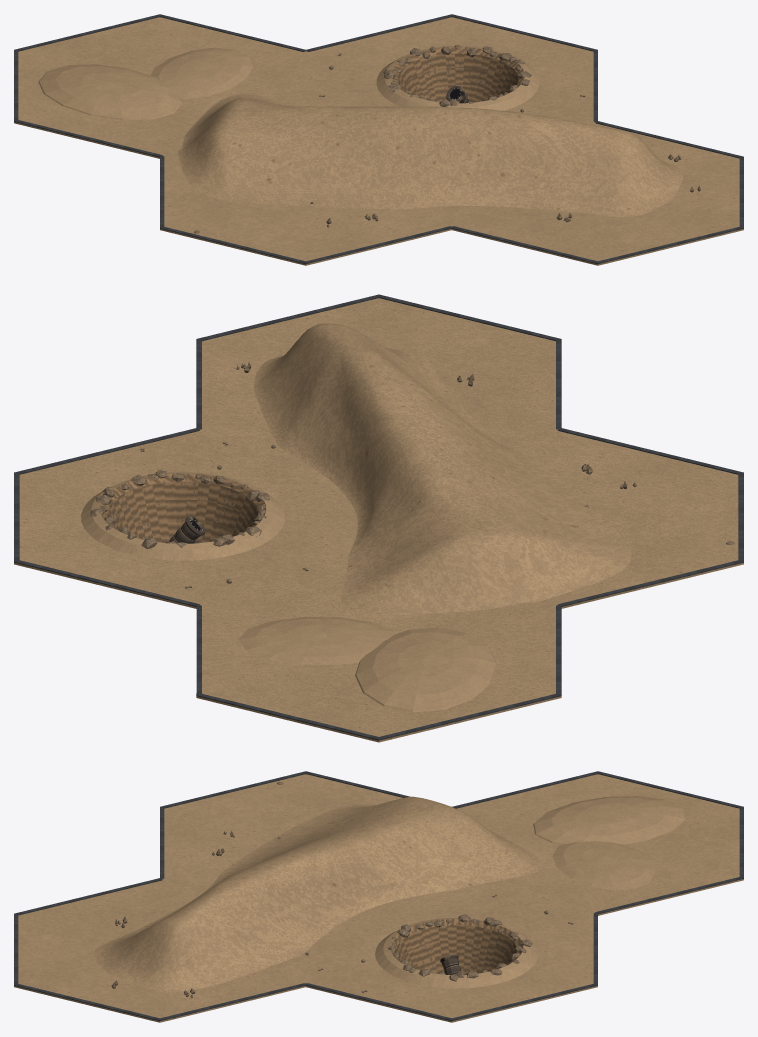
Rendered from WasteHex_Pistol.glb.
3 renders of one model, top to bottom at view 1: azimuth 30°, elevation 25°; view 2: azimuth 150°, elevation 25°; view 3: azimuth 270°, elevation 25°, orthographic. The views are drawn at different scales.
Visible parts, largest first — view 1: WasteHex_Pistol_Ground, WasteHex_Pistol_Prop_WasteO, WasteHex_Pistol_Prop_Drift, WasteHex_Pistol_GroundTrim, WasteHex_Pistol_Prop_PitWall, WasteHex_Pistol_Prop_PitRim, WasteHex_Pistol_Prop_Rock; view 2: WasteHex_Pistol_Ground, WasteHex_Pistol_Prop_WasteO, WasteHex_Pistol_Prop_Drift, WasteHex_Pistol_GroundTrim, WasteHex_Pistol_Prop_PitWall, WasteHex_Pistol_Prop_PitRim, WasteHex_Pistol_Prop_Rock; view 3: WasteHex_Pistol_Ground, WasteHex_Pistol_Prop_WasteO, WasteHex_Pistol_Prop_Drift, WasteHex_Pistol_GroundTrim, WasteHex_Pistol_Prop_PitWall, WasteHex_Pistol_Prop_PitRim, WasteHex_Pistol_Prop_Rock.
Boxes of the visible parts, left/top/right/bottom form: WasteHex_Pistol_Ground: left=14, top=17, right=743, bottom=265; WasteHex_Pistol_Prop_WasteO: left=177, top=93, right=683, bottom=216; WasteHex_Pistol_Prop_Drift: left=38, top=47, right=252, bottom=120; WasteHex_Pistol_GroundTrim: left=14, top=14, right=743, bottom=264; WasteHex_Pistol_Prop_PitWall: left=392, top=47, right=524, bottom=102; WasteHex_Pistol_Prop_PitRim: left=376, top=46, right=539, bottom=110; WasteHex_Pistol_Prop_Rock: left=383, top=45, right=531, bottom=106; WasteHex_Pistol_Ground: left=14, top=298, right=743, bottom=742; WasteHex_Pistol_Prop_WasteO: left=254, top=323, right=631, bottom=615; WasteHex_Pistol_Prop_Drift: left=238, top=617, right=497, bottom=712; WasteHex_Pistol_GroundTrim: left=14, top=294, right=743, bottom=740; WasteHex_Pistol_Prop_PitWall: left=100, top=473, right=266, bottom=542; WasteHex_Pistol_Prop_PitRim: left=81, top=472, right=284, bottom=560; WasteHex_Pistol_Prop_Rock: left=90, top=470, right=269, bottom=548; WasteHex_Pistol_Ground: left=14, top=774, right=743, bottom=1022; WasteHex_Pistol_Prop_WasteO: left=93, top=796, right=543, bottom=992; WasteHex_Pistol_Prop_Drift: left=533, top=796, right=685, bottom=890; WasteHex_Pistol_GroundTrim: left=14, top=771, right=743, bottom=1021; WasteHex_Pistol_Prop_PitWall: left=390, top=919, right=523, bottom=973; WasteHex_Pistol_Prop_PitRim: left=375, top=917, right=538, bottom=988; WasteHex_Pistol_Prop_Rock: left=388, top=914, right=532, bottom=981.
Size of the model in its own units: 21 by 4.02 by 25.98.
10 materials, 10 textured.
